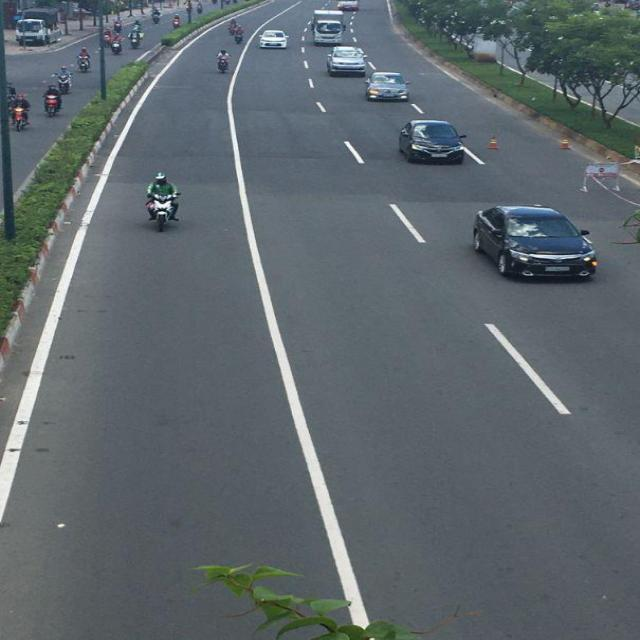car: (471, 202, 602, 282), (400, 120, 466, 166), (365, 72, 408, 103), (327, 44, 366, 76), (260, 30, 287, 50), (337, 1, 359, 12)
motorcycle: (144, 192, 180, 229), (11, 108, 31, 132), (45, 91, 62, 116), (76, 48, 90, 72)
truck: (15, 5, 68, 47), (312, 10, 344, 46)
